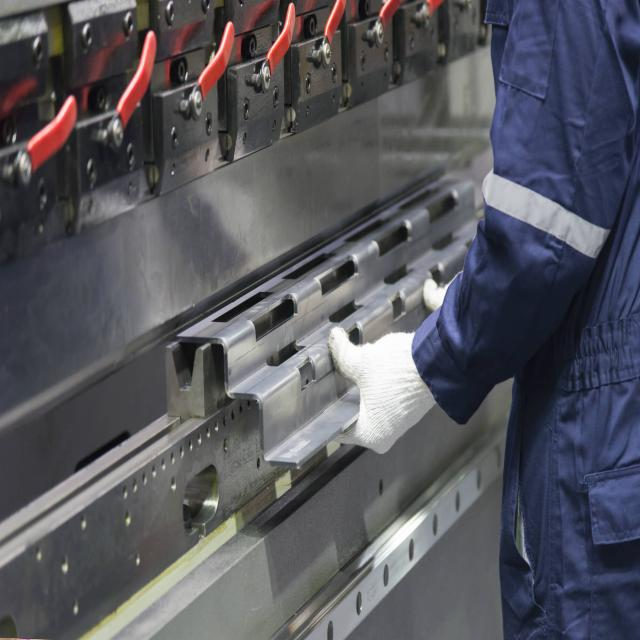gloves: (326, 317, 439, 454)
